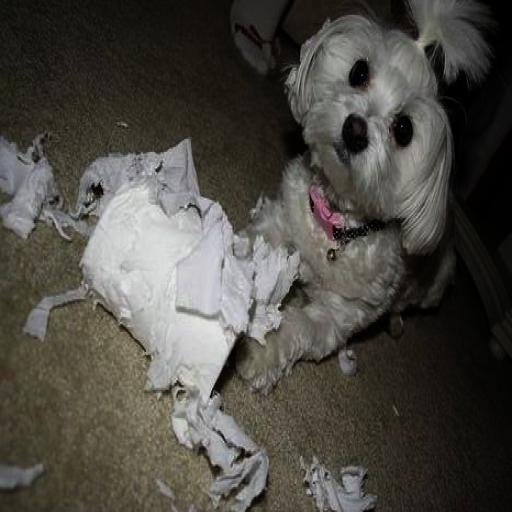dog_face: (281, 0, 475, 248)
